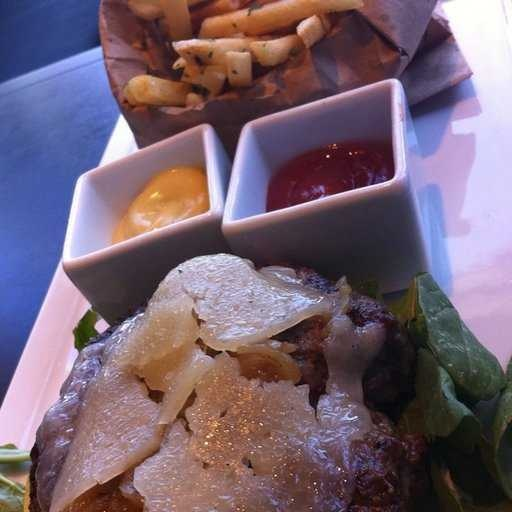hamburger: (16, 331, 450, 503)
